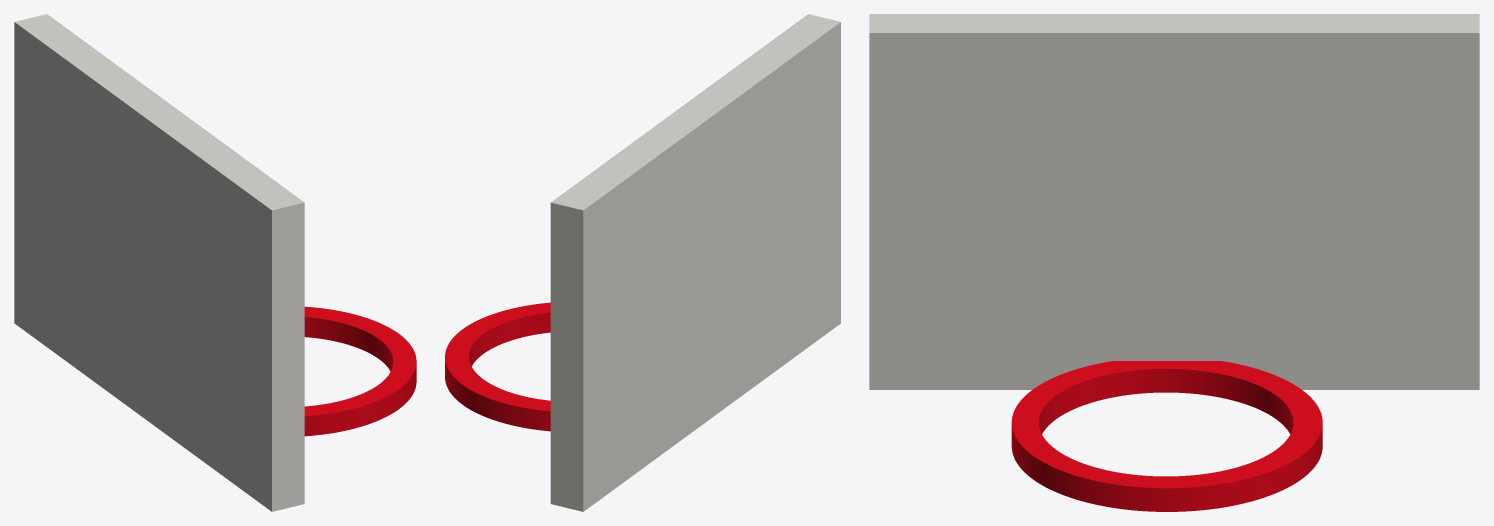
File: Backboard.fbx
3 views of the same model, side by side, from view 1: azimuth 30°, elevation 25°; view 2: azimuth 150°, elevation 25°; view 3: azimuth 270°, elevation 25° (orthographic). The views are drawn at different scales.
Parts seen in each view (by area): view 1: Backboard; view 2: Backboard; view 3: Backboard.
Part boxes in pixels (box(x1,y1,x2,y2)): Backboard: box(14, 14, 416, 511); Backboard: box(445, 14, 840, 511); Backboard: box(869, 14, 1479, 511).
Size of the model in its own units: 378 by 244 by 214.
